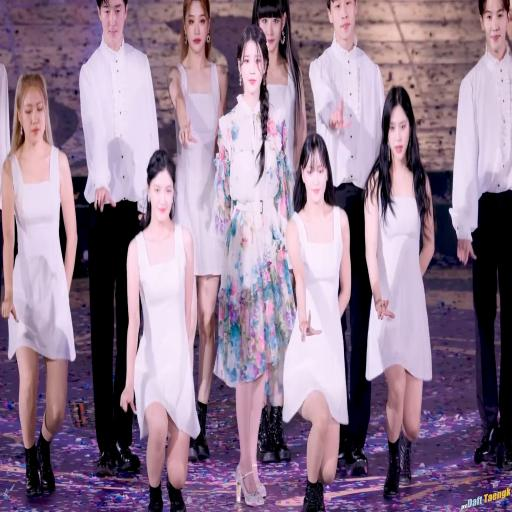IU: (238, 26, 269, 94)
